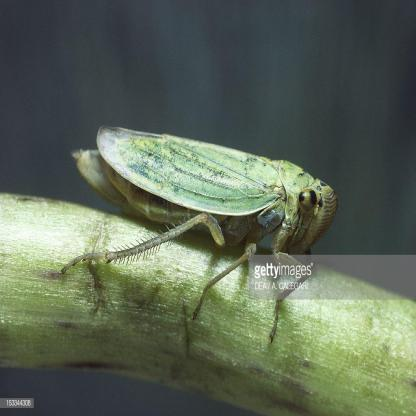Green-Leafhopper: (51, 121, 339, 347)
